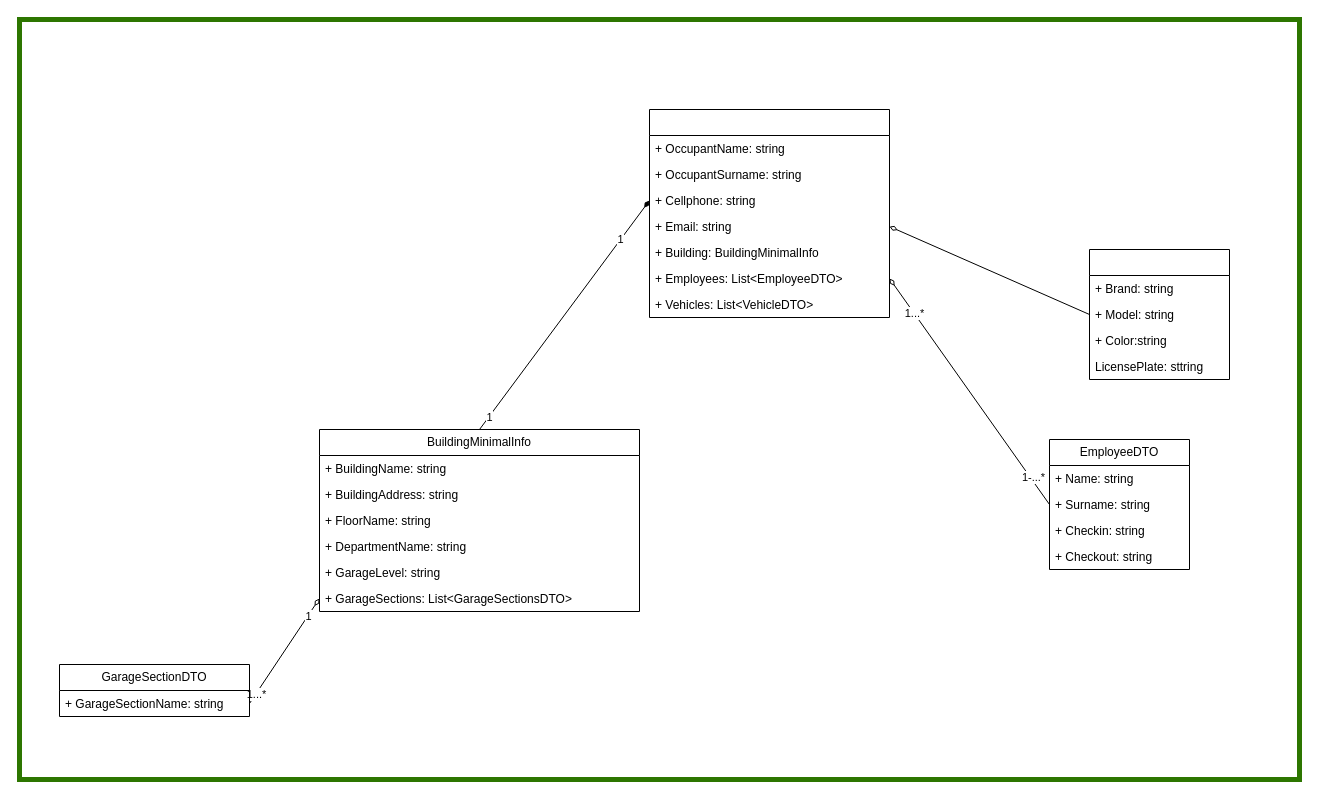
Image size: 1319x799. Some labels were removed from this diagram. Here are the shapes that lost their labels. From the top down, the box of each, then its label:
(648, 108, 890, 318): OccupantDTO
(1088, 248, 1230, 380): VehicleDTO
